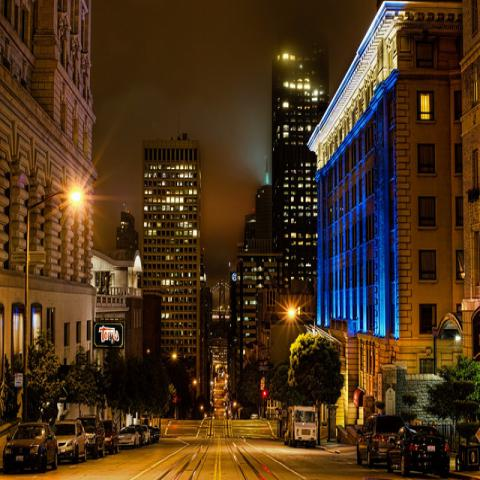car: (386, 425, 450, 479), (1, 422, 60, 475), (356, 414, 405, 468), (56, 419, 90, 461), (76, 414, 104, 459), (102, 420, 120, 456), (118, 426, 141, 450), (147, 425, 161, 444), (142, 425, 151, 445)
truck: (283, 403, 320, 449), (140, 423, 151, 444)
